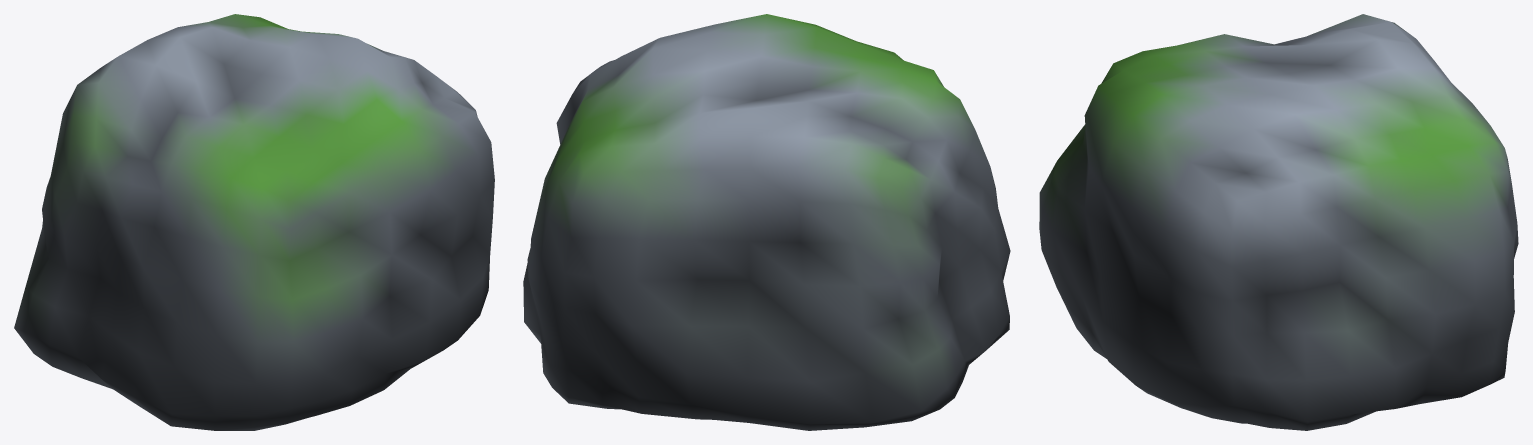
File: small-stone.glb
3 renders of one model, left to right at view 1: azimuth 30°, elevation 25°; view 2: azimuth 150°, elevation 25°; view 3: azimuth 270°, elevation 25°, orthographic. The views are drawn at different scales.
Visible parts, largest first — view 1: stone-medium-c; view 2: stone-medium-c; view 3: stone-medium-c.
Boxes of the visible parts, <box> form: stone-medium-c: <box>14,14,494,430</box>; stone-medium-c: <box>523,14,1010,430</box>; stone-medium-c: <box>1039,14,1518,430</box>.
Size of the model in its own units: 1.78 by 1.14 by 1.71.
